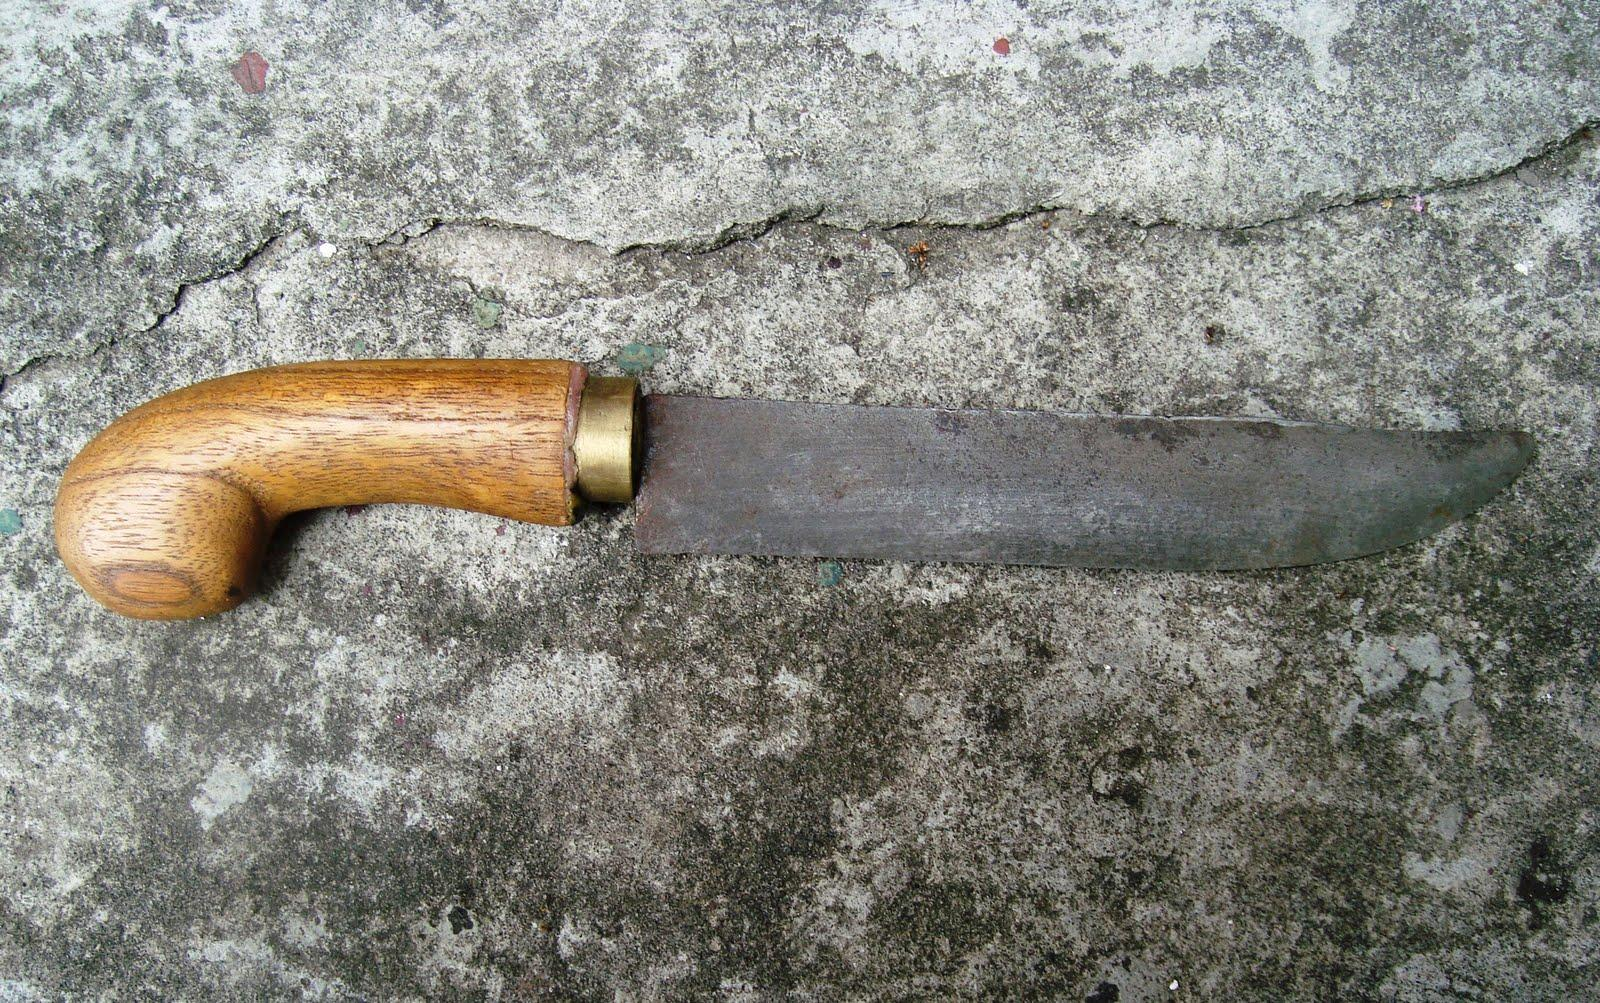facao: (50, 347, 1496, 627)
